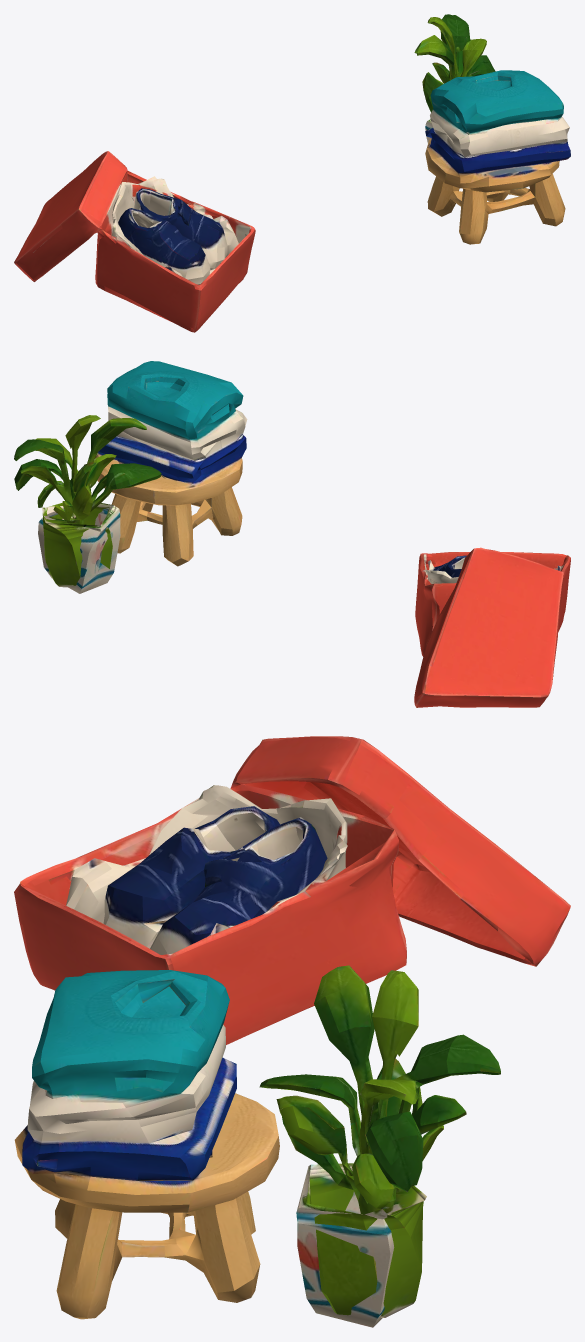
The picture shows the model from 3 angles, top to bottom: view 1: azimuth 30°, elevation 25°; view 2: azimuth 150°, elevation 25°; view 3: azimuth 270°, elevation 25°; orthographic projection. The views are drawn at different scales.
Visible parts, largest first — view 1: Mesh0; view 2: Mesh0; view 3: Mesh0.
Boxes of the visible parts, <box> form: Mesh0: <box>14,14,570,332</box>; Mesh0: <box>14,361,570,707</box>; Mesh0: <box>14,736,570,1327</box>.
Size of the model in its own units: 1.9 by 0.6322 by 0.9775.
Materials: 1 (1 with a texture image).
